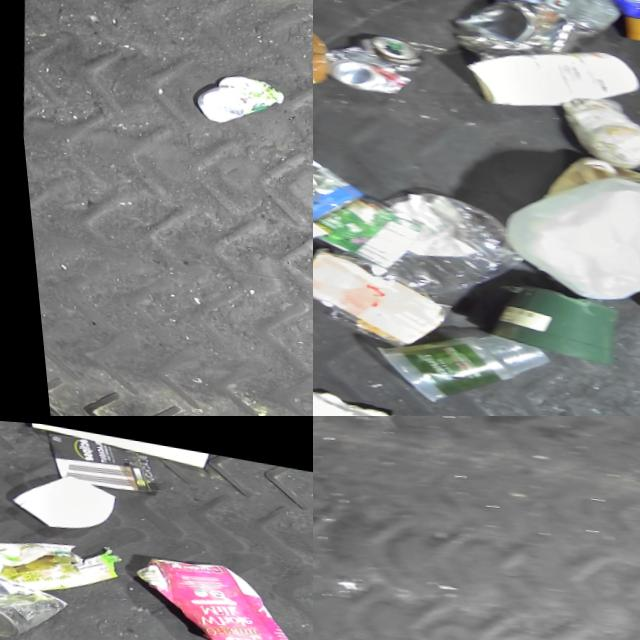can: (313, 18, 429, 97), (313, 184, 402, 256), (313, 114, 367, 224), (0, 559, 70, 640), (635, 6, 640, 79)
milk_jug: (486, 146, 640, 305), (313, 363, 408, 416)
